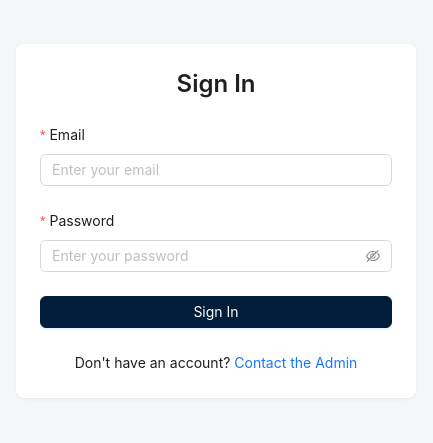
Test case: SignIn Page (Real Backend) › shows error on wrong password
Step 1. Type "admin@dms.com" into the field labelled "Email" → (216, 170), box [40,154,392,186]
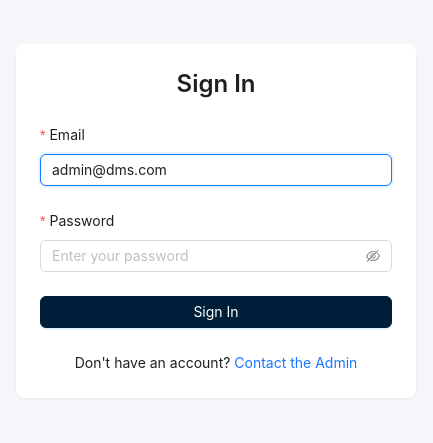
Step 2. Type "wrongpassword" into the password field labelled "Password" → (207, 256), box [52,245,362,267]
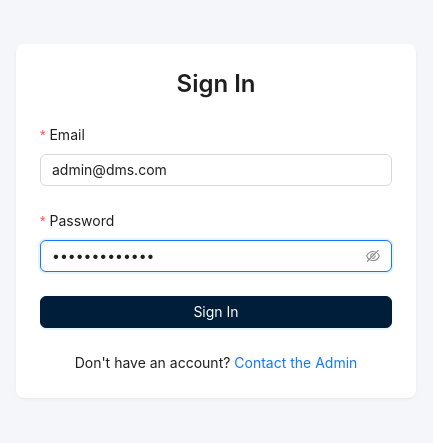
Step 3. Click the submit button → (216, 312), box [40,296,392,328]
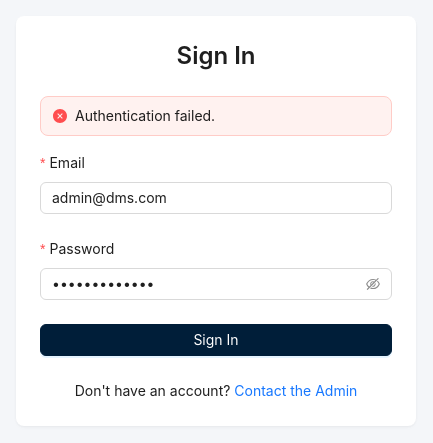
Expected: the text "Authentication failed." is shown, [75,107,215,124]
